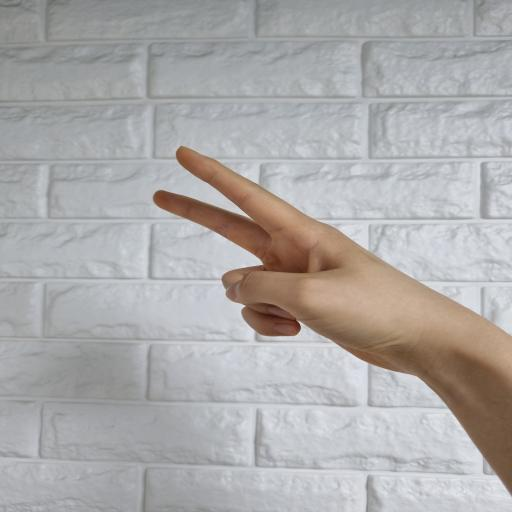Scissors: (152, 145, 512, 496)
